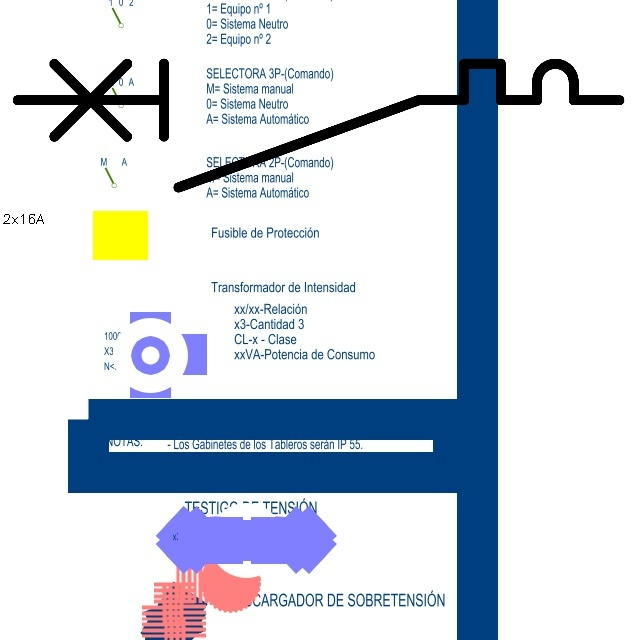interruptor_termomagnetico: (2, 48, 635, 203)
